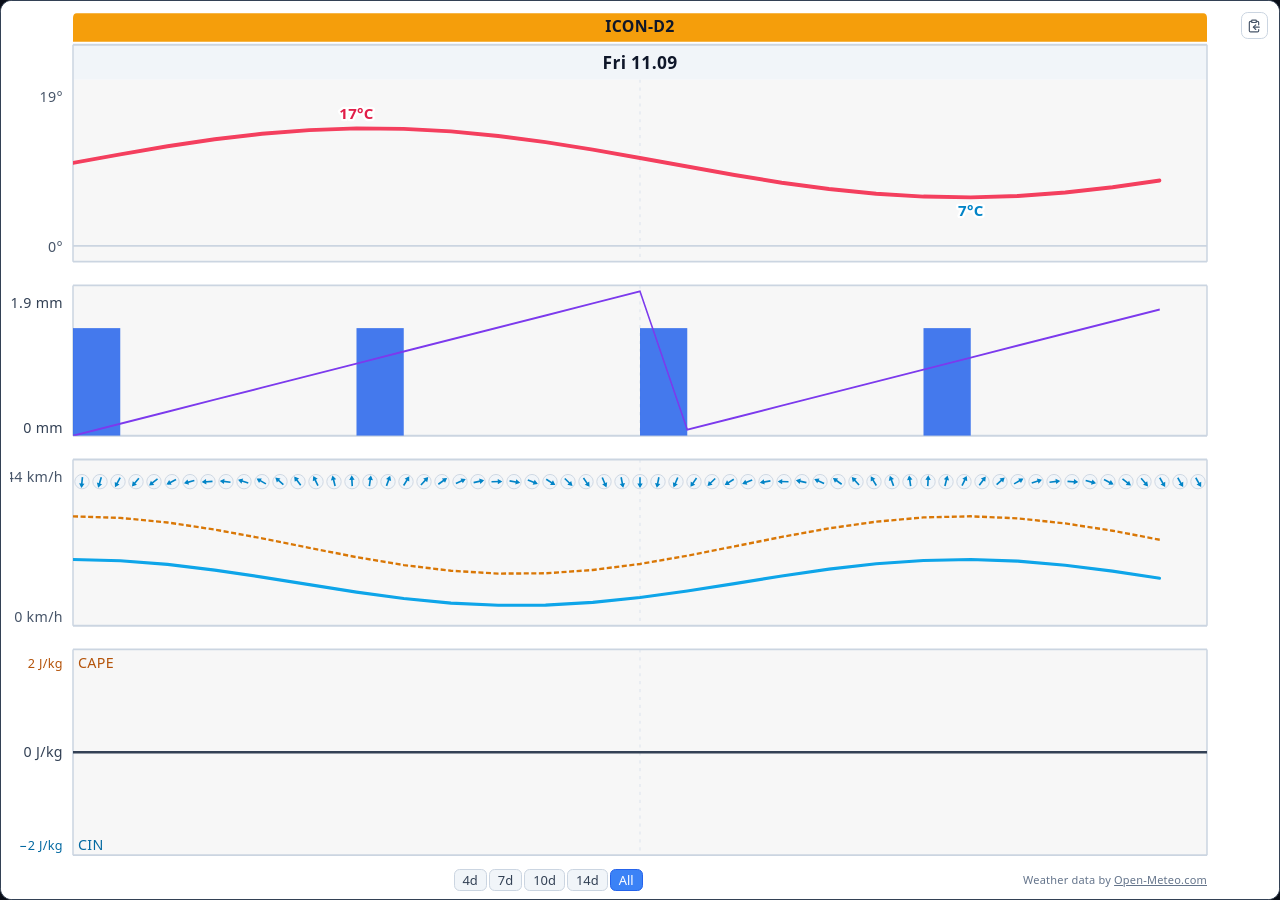
Test case: MeteogramChart Redesign Component › Full-Screen Meteogram Mode › keeps every full-screen detail slot present while dry and unavailable values change
Double-click the element that starts with "ICON-D2": (640, 450) [0,0,1279,899]
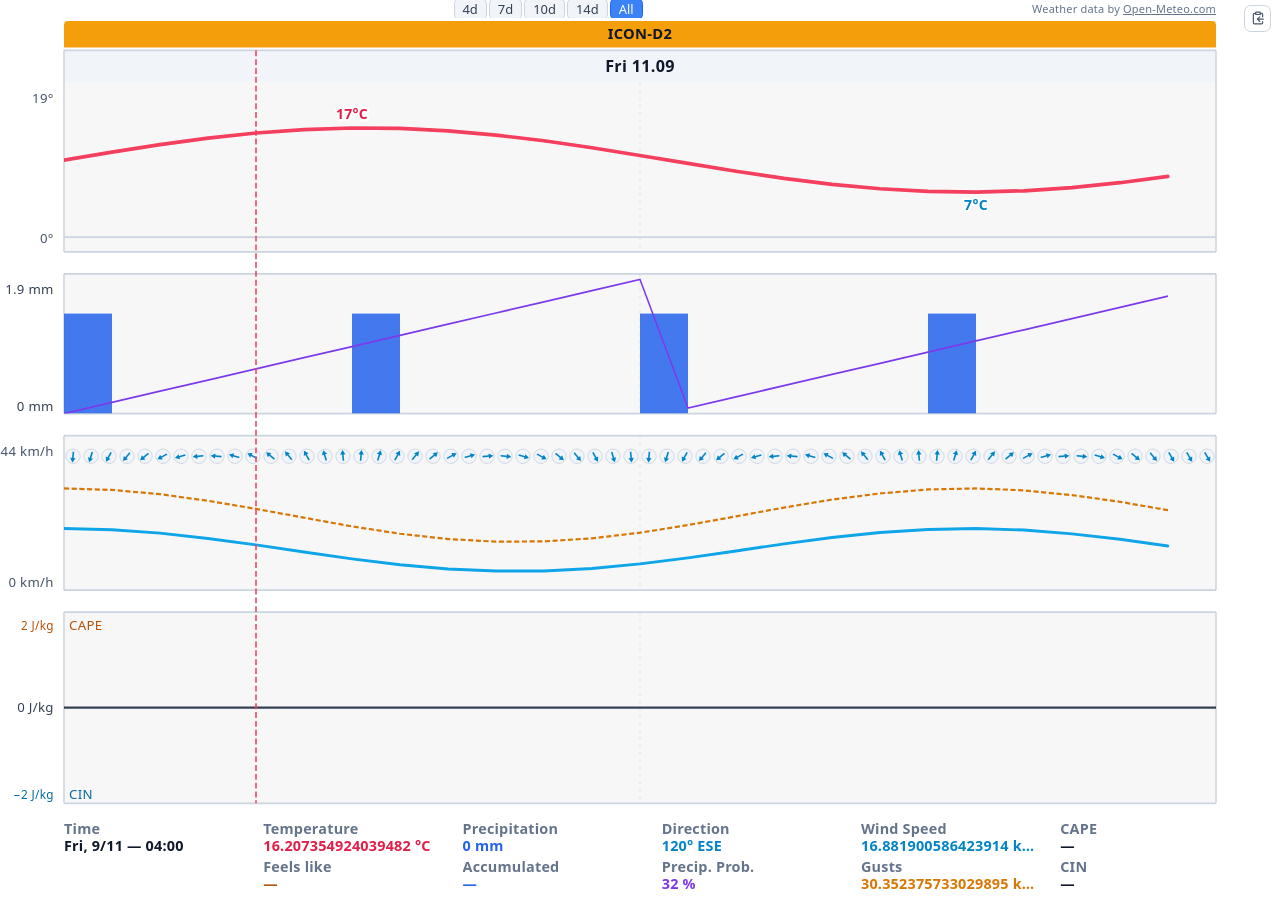
expect the number of elements with class "fullscreen-detail-pair" is 12: met
expect the element with test id "fullscreen-detail-accumulated-precip" is shown: met, box [462,857,559,893]
